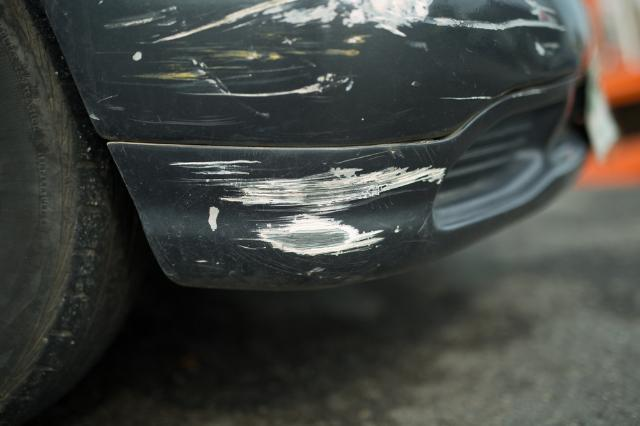scratch: (91, 0, 572, 125), (175, 151, 448, 271)
